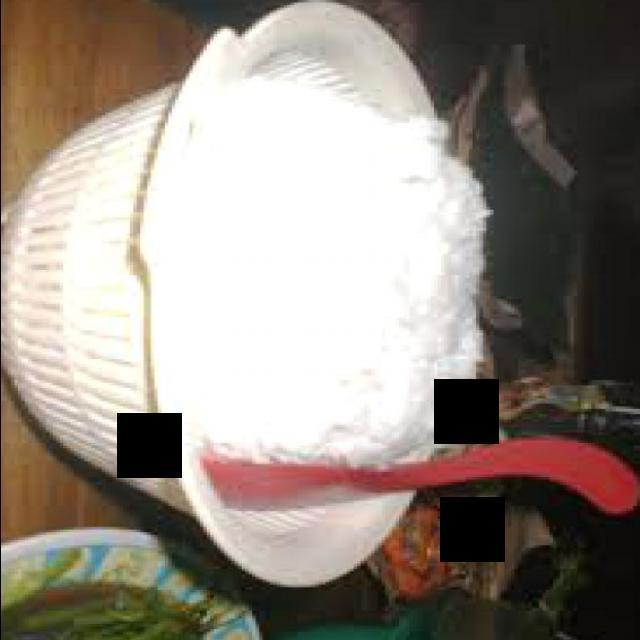Chicken -Chicken Inasal-: (196, 81, 485, 457)
